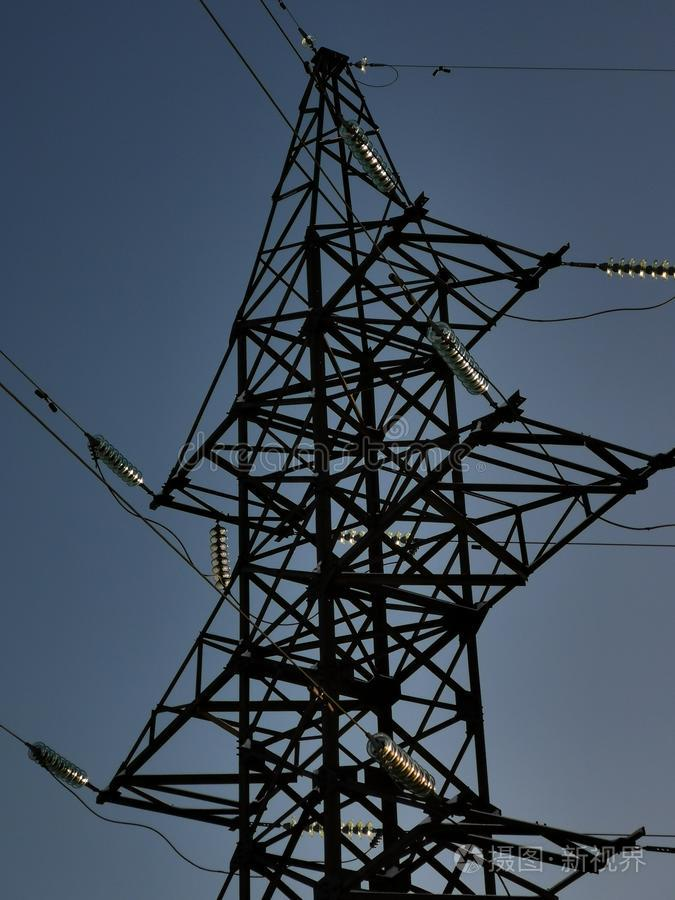insulator: (364, 731, 438, 799), (340, 117, 401, 197), (429, 321, 490, 396), (24, 741, 90, 791), (89, 434, 141, 485), (603, 253, 674, 282), (207, 525, 233, 593), (292, 817, 372, 838)
